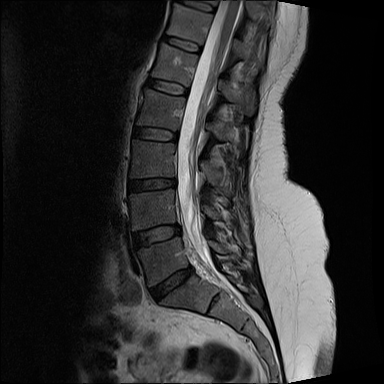Degenerative Disc Disease (DDD): (142, 259, 199, 309), (120, 172, 178, 198)
Normal IVD: (126, 216, 183, 255), (142, 73, 192, 99), (157, 29, 203, 56), (126, 122, 178, 145)
